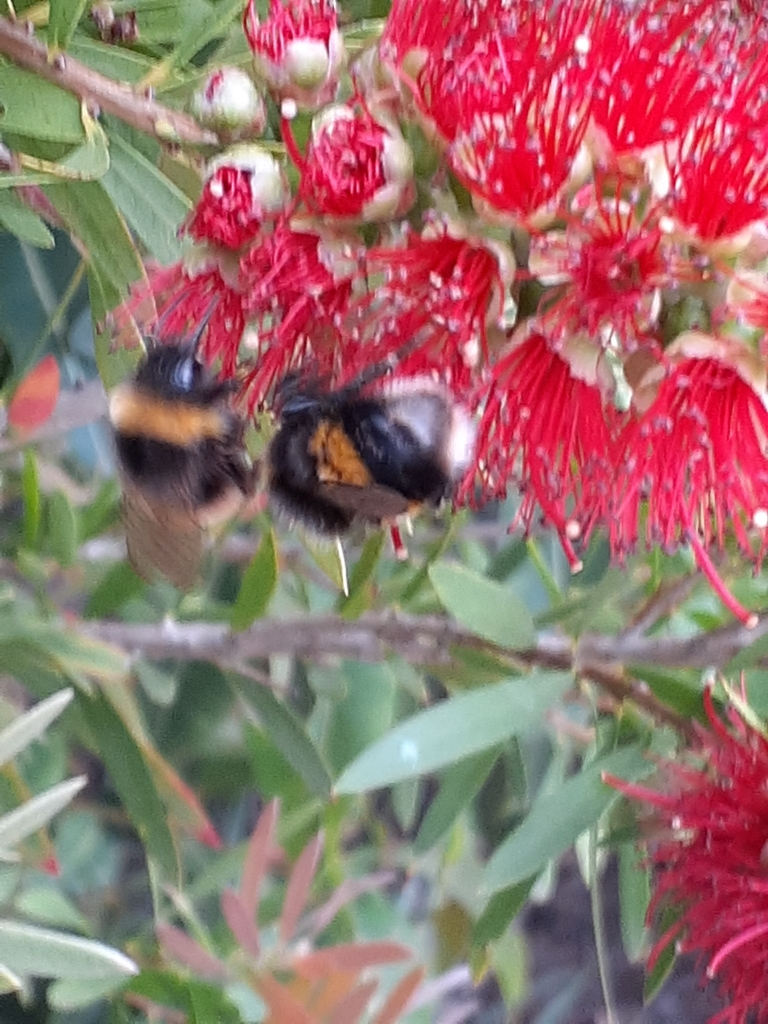bumblebee: (107, 293, 455, 595)
